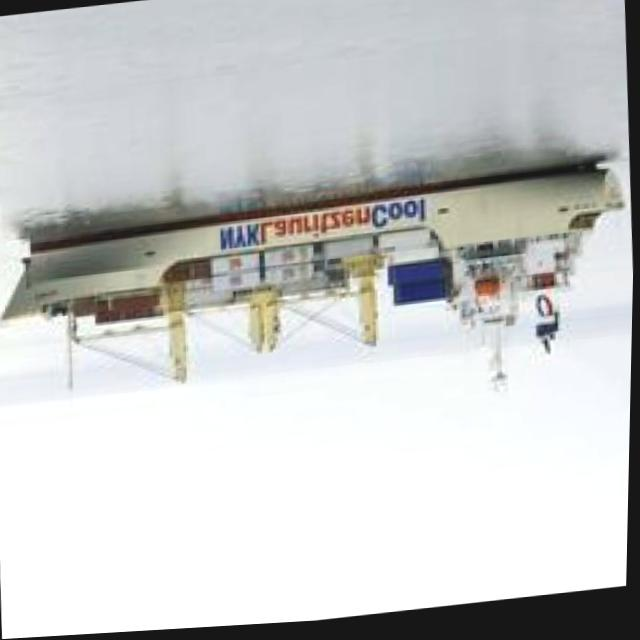ship2: (0, 170, 628, 403)
